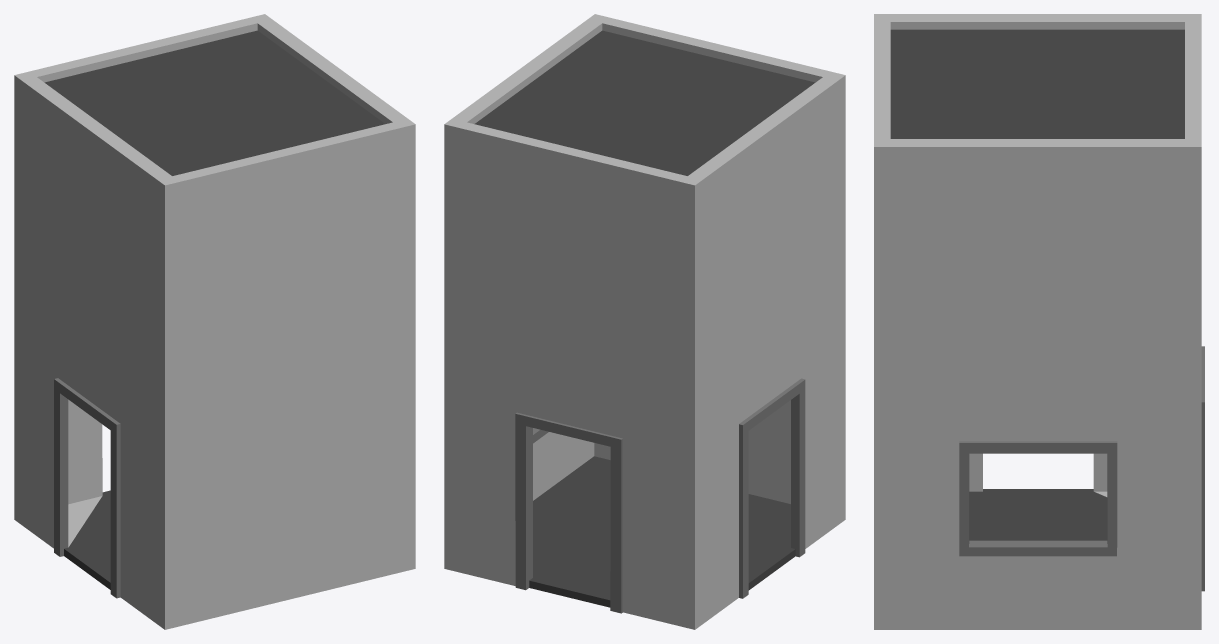
The model's file is HighBuilding3-1.fbx.
3 views of the same model, side by side, from view 1: azimuth 30°, elevation 25°; view 2: azimuth 150°, elevation 25°; view 3: azimuth 270°, elevation 25° (orthographic). The views are drawn at different scales.
Visible parts, largest first — view 1: HighlBuilding3.000_LOD0; view 2: HighlBuilding3.000_LOD0; view 3: HighlBuilding3.000_LOD0.
Part boxes in pixels (left/top/right/bottom): HighlBuilding3.000_LOD0: left=14, top=14, right=415, bottom=629; HighlBuilding3.000_LOD0: left=444, top=14, right=845, bottom=629; HighlBuilding3.000_LOD0: left=874, top=14, right=1204, bottom=629.
Size of what is drawn, in the model's own units: 797 by 1312 by 815.
1 material, 1 textured.
